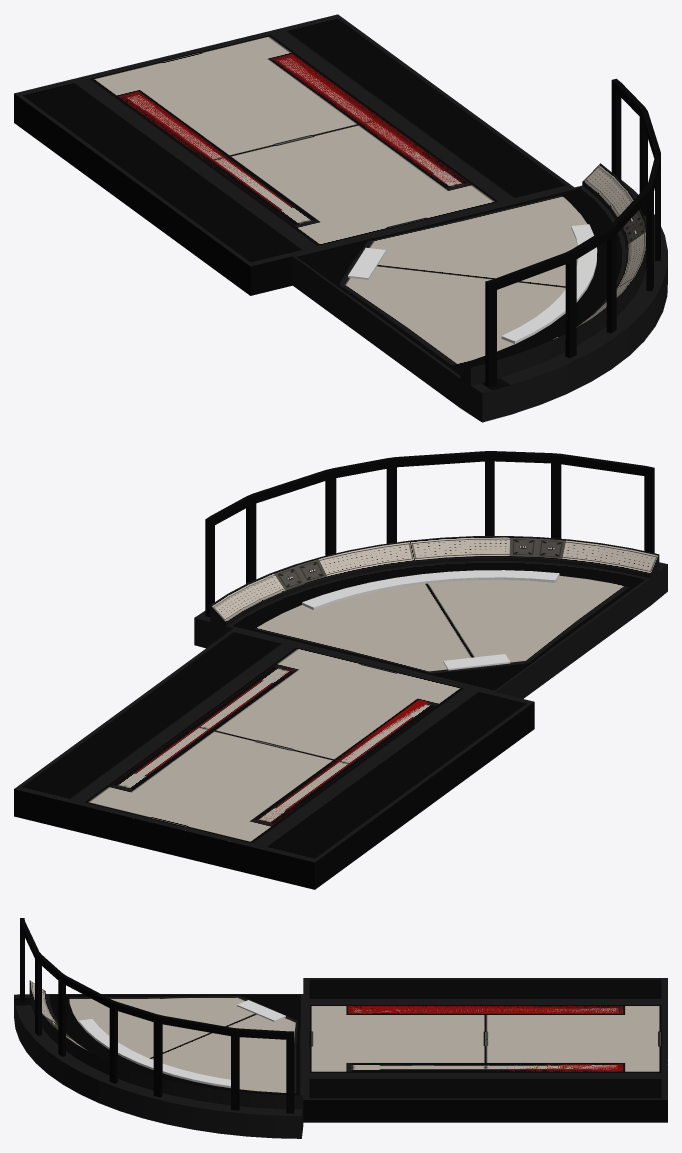
Rendered from Sci_fi_walkway_corner (1).fbx.
3 renders of one model, top to bottom at view 1: azimuth 30°, elevation 25°; view 2: azimuth 150°, elevation 25°; view 3: azimuth 270°, elevation 25°, orthographic. The views are drawn at different scales.
Visible parts, largest first — view 1: Sci Fi Walkway, Base, Rail, Cornor Rim, Light, Light2; view 2: Sci Fi Walkway, Base, Cornor Rim, Rail, Light, Light2; view 3: Sci Fi Walkway, Base, Rail, Cornor Rim, Light, Light2.
Part boxes in pixels (<box>): Sci Fi Walkway: <box>14,14,573,295</box>; Base: <box>292,180,667,422</box>; Rail: <box>485,78,660,387</box>; Cornor Rim: <box>460,163,646,385</box>; Light: <box>501,224,597,343</box>; Light2: <box>348,247,386,279</box>; Sci Fi Walkway: <box>14,628,534,889</box>; Base: <box>194,561,667,698</box>; Cornor Rim: <box>210,536,659,626</box>; Rail: <box>205,451,654,617</box>; Light: <box>302,570,559,609</box>; Light2: <box>443,654,510,670</box>; Sci Fi Walkway: <box>303,978,667,1122</box>; Base: <box>14,994,303,1138</box>; Rail: <box>20,918,294,1113</box>; Cornor Rim: <box>29,980,303,1109</box>; Light: <box>78,1019,230,1088</box>; Light2: <box>237,1000,285,1021</box>.
Size of the model in its own units: 1279 by 445 by 2557.
Materials: 3 (2 with a texture image).
